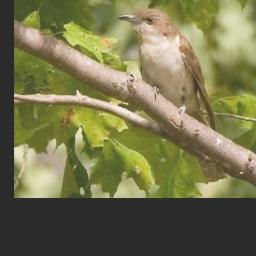Cuckoo: (116, 4, 229, 185)
